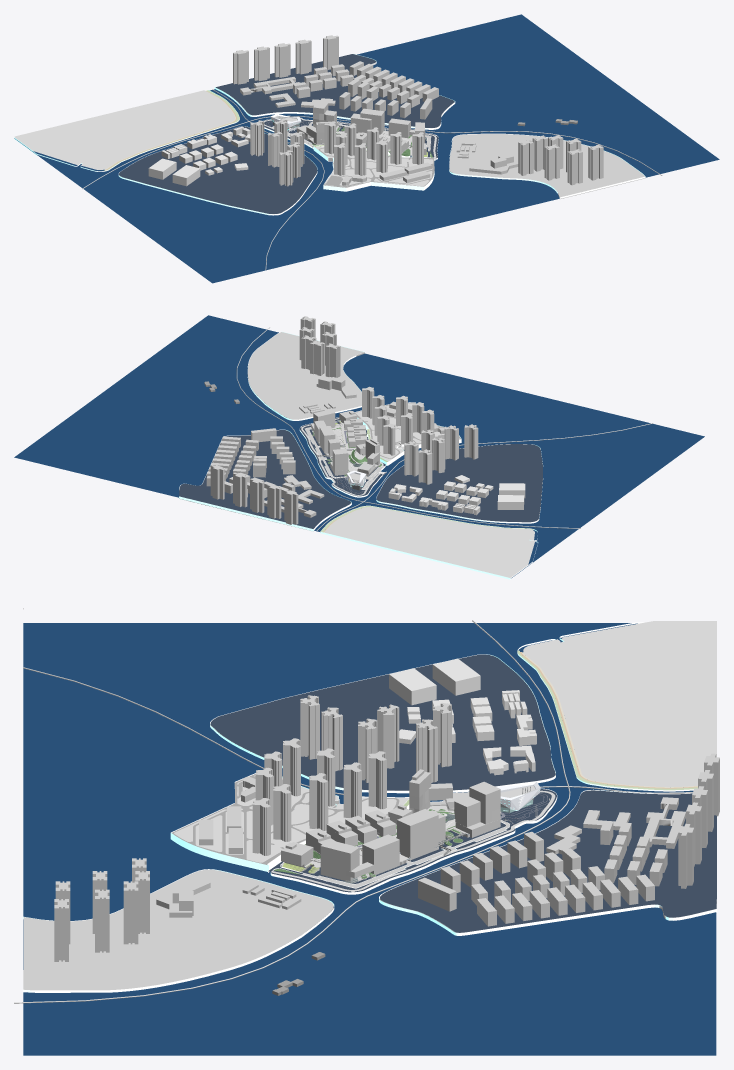
The picture shows the model from 3 angles, top to bottom: view 1: azimuth 30°, elevation 25°; view 2: azimuth 150°, elevation 25°; view 3: azimuth 270°, elevation 25°; orthographic projection. The views are drawn at different scales.
Parts seen in each view (by area): view 1: ground, building-outside, reflect-plane-5.001, reflect-plane-3, reflect-plane-4, reflect-plane-1, building-inside, Group9, Group2, road-light, light-border.004, light-border.005 (+3 smaller); view 2: ground, building-outside, reflect-plane-5.001, reflect-plane-3, reflect-plane-4, reflect-plane-1, building-inside, Group9, reflect-plane, light-border.001, Group2, light-border.003 (+1 smaller); view 3: ground, building-outside, reflect-plane-5.001, reflect-plane-4, reflect-plane-3, reflect-plane-1, building-inside, Group9, reflect-plane, Group2, light-border.003, road-light (+6 smaller).
Boxes of the visible parts, x1,y1,x2,y2 form: ground: (14, 14, 719, 283); building-outside: (148, 35, 603, 186); reflect-plane-5.001: (14, 90, 234, 169); reflect-plane-3: (119, 126, 317, 213); reflect-plane-4: (449, 134, 644, 197); reflect-plane-1: (216, 54, 454, 127); building-inside: (296, 101, 426, 154); Group9: (313, 145, 434, 187); Group2: (15, 90, 239, 170); road-light: (82, 115, 662, 189); light-border.004: (313, 145, 434, 191); light-border.005: (449, 133, 645, 198); ground: (14, 315, 704, 578); building-outside: (206, 316, 525, 524); reflect-plane-5.001: (325, 507, 534, 577); reflect-plane-3: (376, 444, 542, 522); reflect-plane-4: (247, 332, 364, 419); reflect-plane-1: (179, 430, 351, 528); building-inside: (311, 409, 380, 476); Group9: (355, 402, 460, 461); reflect-plane: (299, 417, 385, 496); light-border.001: (320, 505, 538, 579); Group2: (321, 506, 534, 577); light-border.003: (179, 429, 351, 531); ground: (23, 623, 716, 1055); building-outside: (54, 658, 719, 961); reflect-plane-5.001: (523, 621, 716, 785); reflect-plane-4: (23, 869, 333, 990); reflect-plane-3: (210, 654, 555, 790); reflect-plane-1: (380, 790, 716, 932); building-inside: (281, 769, 500, 881); Group9: (172, 774, 409, 864); reflect-plane: (268, 789, 556, 892); Group2: (517, 639, 697, 790); light-border.003: (379, 789, 717, 935); road-light: (14, 620, 570, 1003).
Bounding box in the file's own units: 15.76 × 0.9967 × 10.56.
